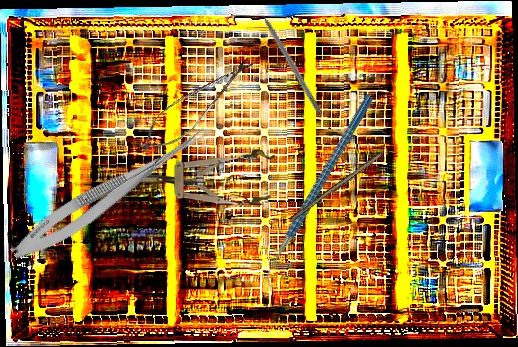Chopper: (214, 93, 426, 293)
Hook Surgical: (253, 1, 325, 116)
Micro Scissor: (5, 114, 213, 270), (129, 44, 264, 165)
Scalpel Handle: (290, 150, 384, 224)
Speculum: (140, 150, 275, 205)
